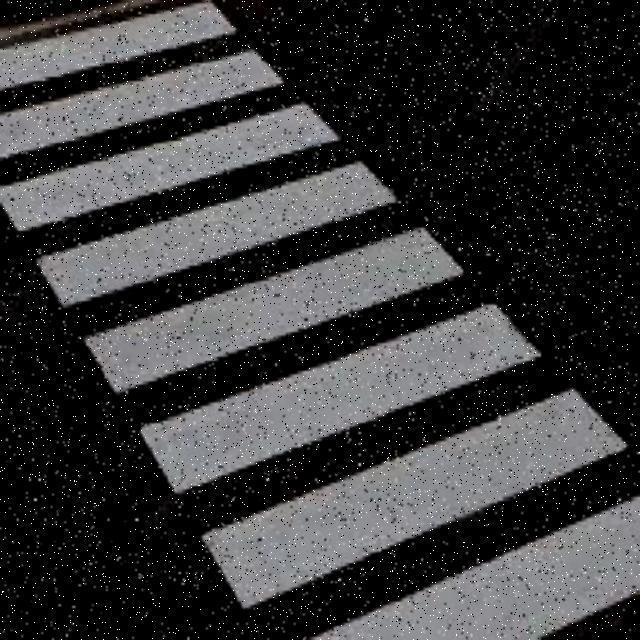Pedestrian crosswalk: (0, 0, 638, 637)
